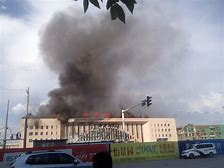smoke: (38, 7, 118, 112)
